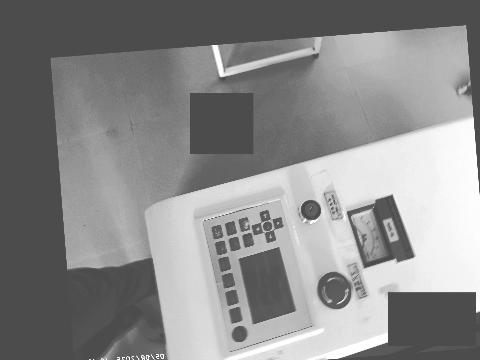Amp_Meter: (349, 205, 393, 266)
Display: (240, 248, 294, 323)
Down_button: (252, 224, 262, 235)
Emergency_Stop: (318, 272, 351, 309)
Enter_button: (239, 218, 250, 231)
Esc_button: (243, 233, 254, 247)
File_button: (215, 241, 226, 255)
Frame_button: (225, 221, 236, 235)
Left_button: (265, 231, 276, 242)
Max-Power_button: (219, 257, 230, 271)
Min-Power_button: (223, 273, 234, 288)
Origin_button: (229, 237, 240, 251)
Power_switch: (299, 200, 321, 224)
Pulse_button: (230, 308, 241, 323)
Reset_button: (233, 326, 246, 342)
Right_button: (260, 210, 270, 221)
Speed_button: (227, 290, 237, 305)
Start-Pause_button: (212, 225, 223, 239)
Up_button: (273, 217, 283, 229)
Z_U_button: (263, 222, 272, 231)
